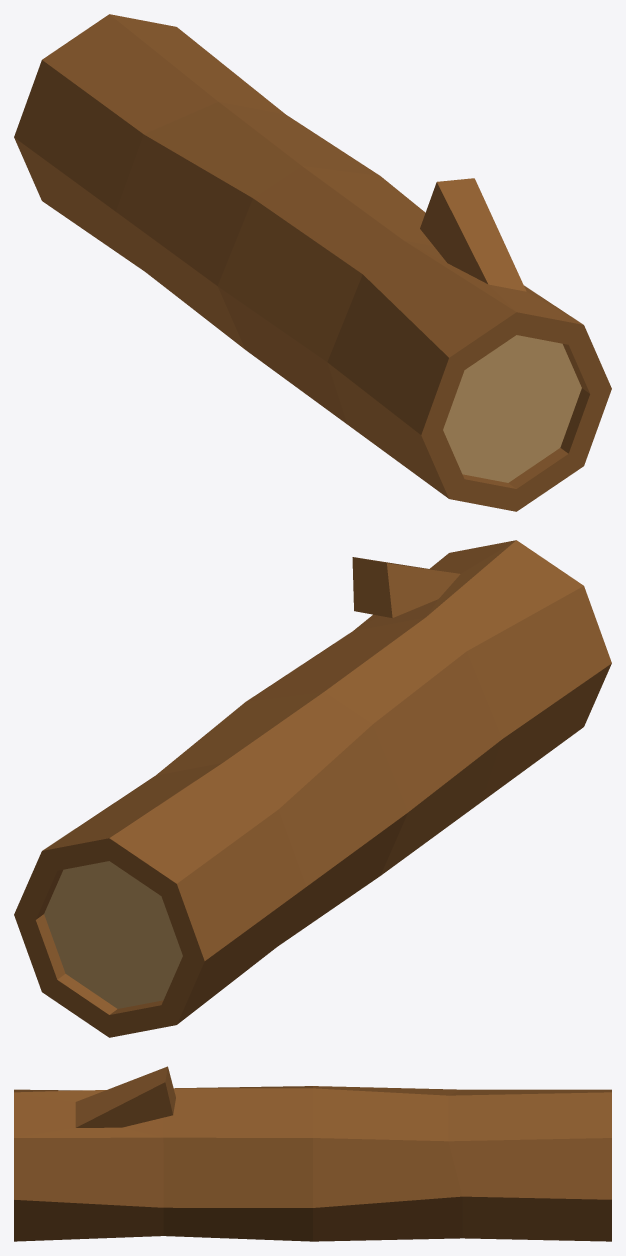
The model's file is logkayu2.fbx.
3 renders of one model, top to bottom at view 1: azimuth 30°, elevation 25°; view 2: azimuth 150°, elevation 25°; view 3: azimuth 270°, elevation 25°, orthographic. The views are drawn at different scales.
Visible parts, largest first — view 1: log_7a; view 2: log_7a; view 3: log_7a.
Part boxes in pixels (bbox=[...]): log_7a: bbox=[14, 14, 611, 511]; log_7a: bbox=[14, 540, 611, 1037]; log_7a: bbox=[14, 1066, 611, 1241].
Size of the model in its own units: 53.77 by 65.85 by 197.
